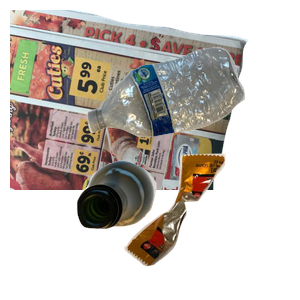glass: (74, 158, 223, 300)
paper: (10, 10, 250, 190)
plastic: (85, 45, 300, 175)
trash: (122, 151, 300, 300)
